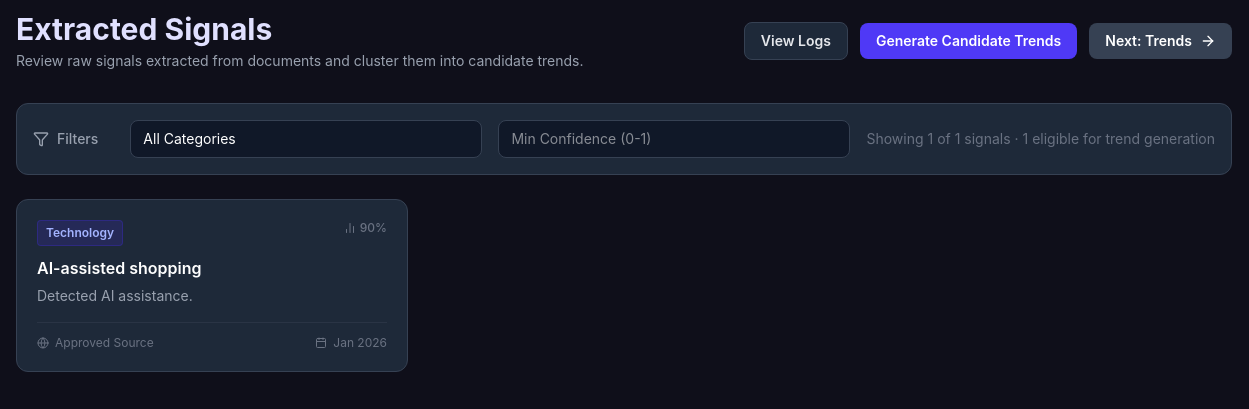
Test: SignalsScreen › generates trends successfully when valid signals are present
The image size is (1249, 409).
Expected: the heading "AI-assisted shopping" is shown, [37, 258, 202, 278]
Step 1. Click the button "Generate Candidate Trends" → point(969, 41), box [860, 23, 1077, 59]
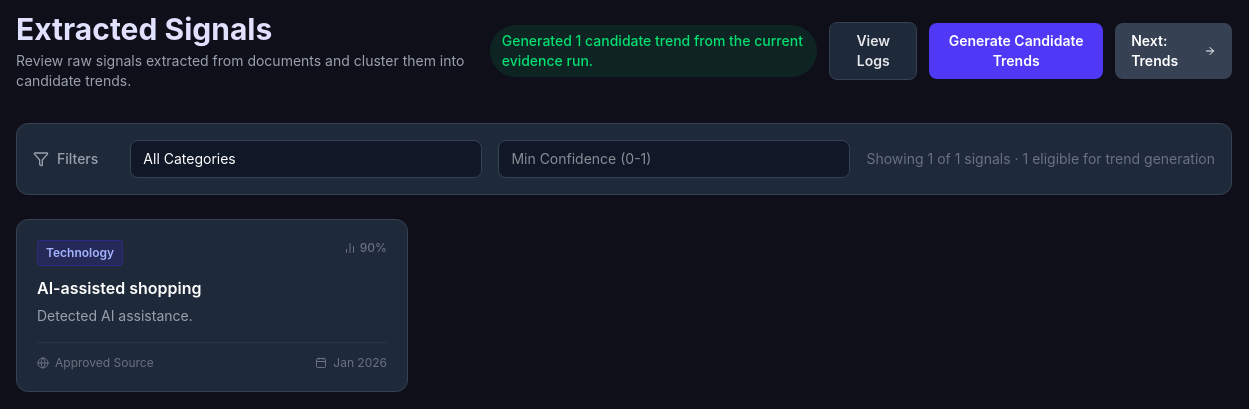
Expected: the text "Generated 1 candidate trend from the current evidence run." is shown, [490, 25, 817, 77]
